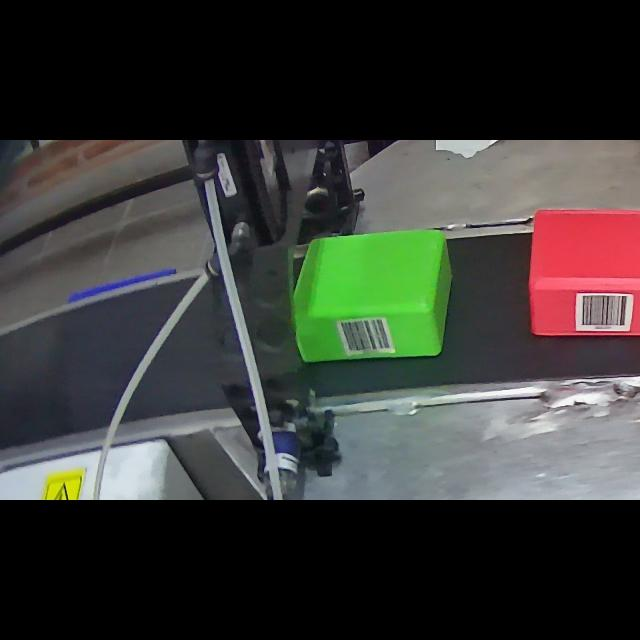greenBox: (284, 229, 462, 367)
redBox: (524, 200, 640, 342)
